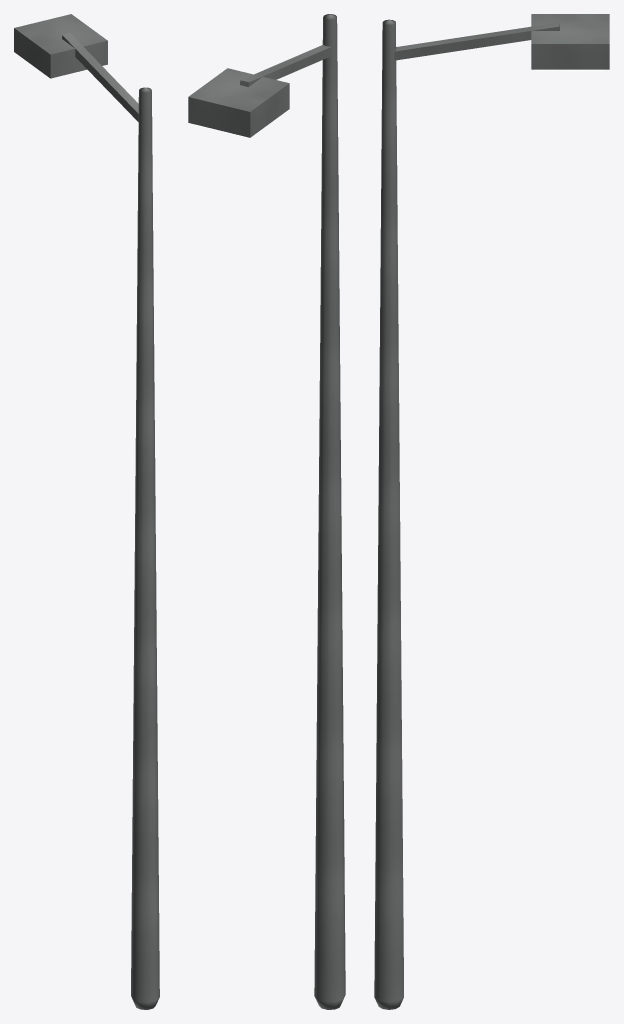
The model's file is light_pole.glb.
3 views of the same model, side by side, from view 1: azimuth 30°, elevation 25°; view 2: azimuth 150°, elevation 25°; view 3: azimuth 270°, elevation 25° (orthographic). The views are drawn at different scales.
Parts seen in each view (by area): view 1: light_pole; view 2: light_pole; view 3: light_pole.
Part boxes in pixels (x1,y1,x2,y2): light_pole: [14, 14, 159, 1009]; light_pole: [188, 14, 345, 1009]; light_pole: [374, 14, 609, 1009].
Size of the model in its own units: 0.5 by 7.68 by 1.65.
Materials: 2 (1 with a texture image).
